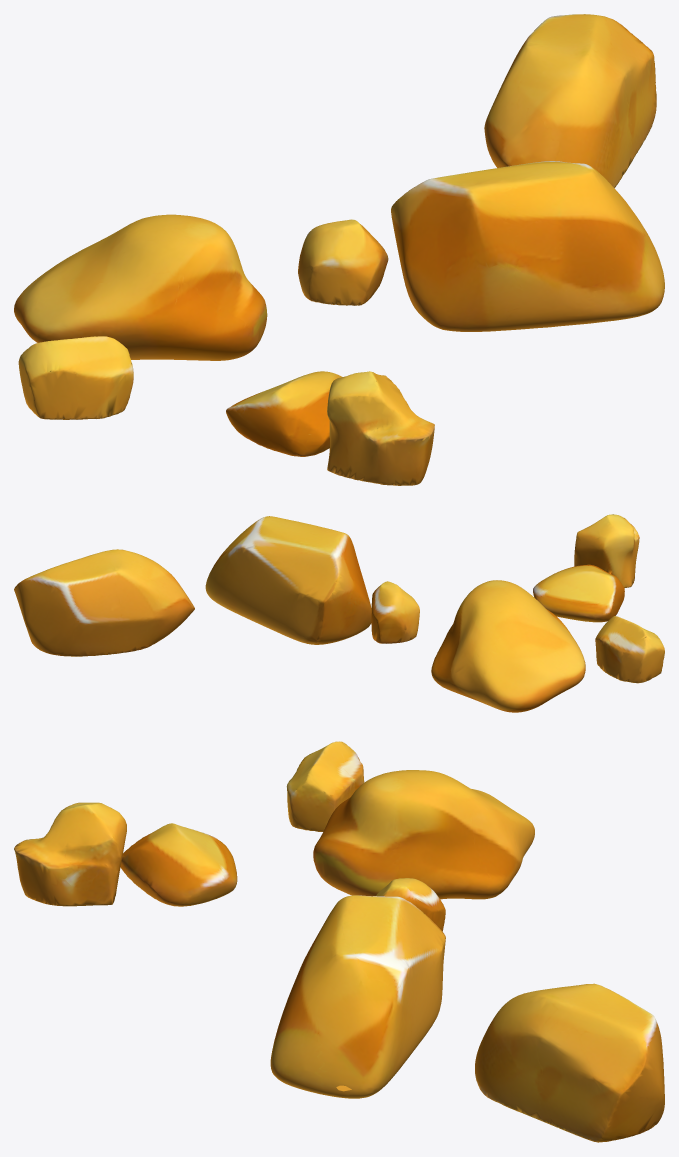
The picture shows the model from 3 angles, top to bottom: view 1: azimuth 30°, elevation 25°; view 2: azimuth 150°, elevation 25°; view 3: azimuth 270°, elevation 25°; orthographic projection. The views are drawn at different scales.
Parts seen in each view (by area): view 1: Mesh_0.002; view 2: Mesh_0.002; view 3: Mesh_0.002.
Boxes of the visible parts, left/top/right/bottom form: Mesh_0.002: left=14, top=14, right=664, bottom=485; Mesh_0.002: left=14, top=514, right=664, bottom=712; Mesh_0.002: left=14, top=741, right=664, bottom=1142.
Bounding box in the file's own units: 0.8421 × 0.1461 × 0.6591.
Materials: 1 (1 with a texture image).
